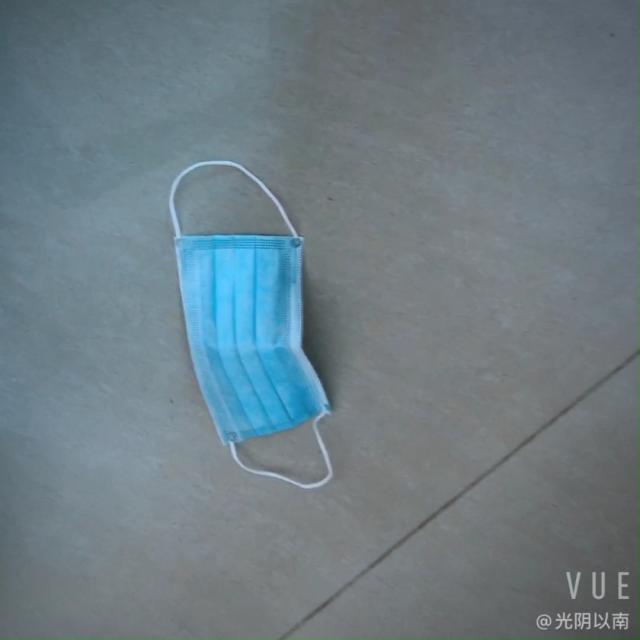non-organic waste: (177, 136, 336, 504)
